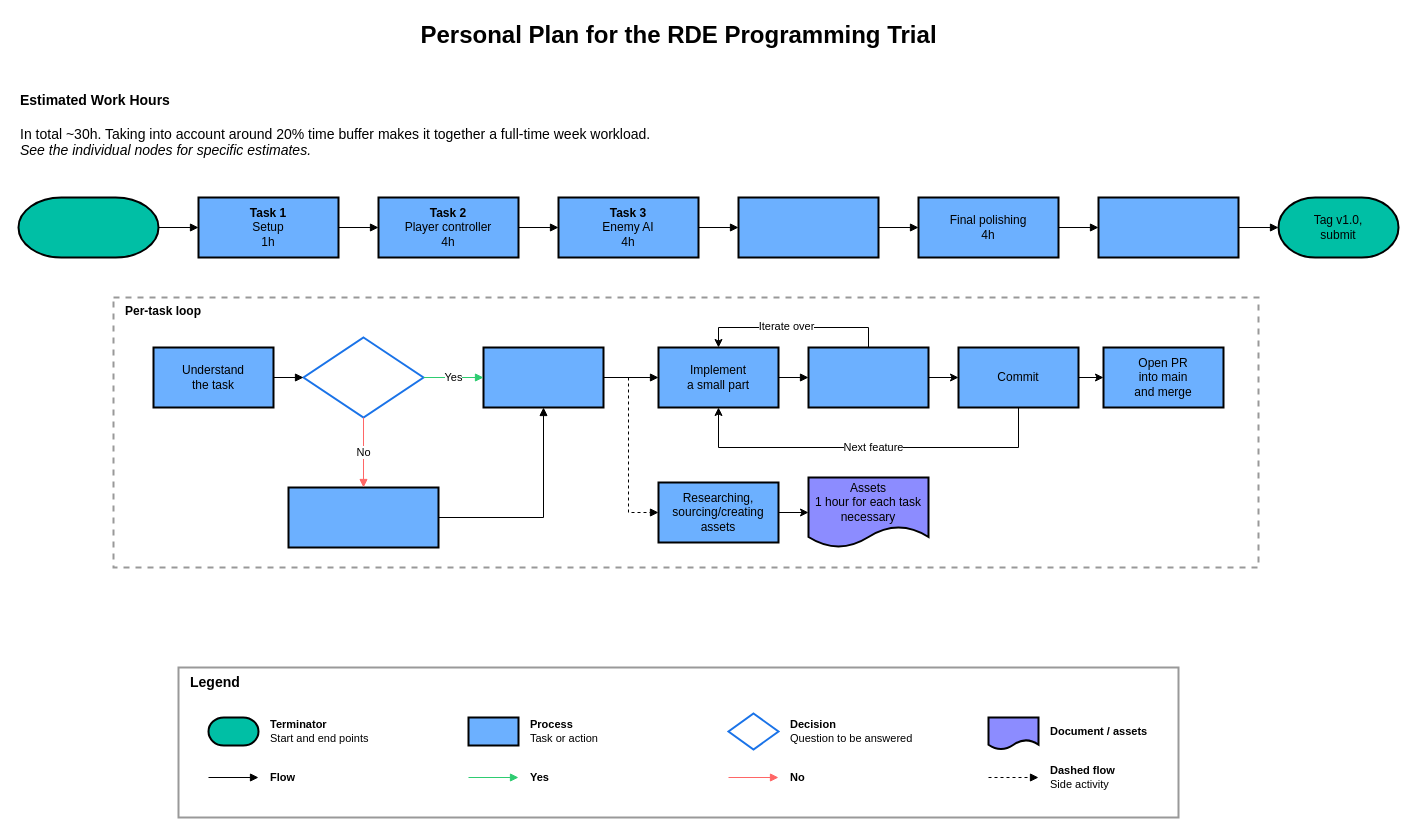
Some shapes in this 1416 by 835 pixel diagram are drawn without their labels. The centre of each missing label's shape, as x and y in pixels:
"Are requirements clear?" goes at [363,377].
"Clean the code and readme 1h" goes at [1168,227].
"Make a decision independently or ask" goes at [363,517].
"Plan, create a feature branch" goes at [543,377].
"Read the instructions and plan ahead 2h" goes at [88,227].
"Task 4 Specialisation 4h each, together 12h" goes at [808,227].
"Test in editor" goes at [868,377].
